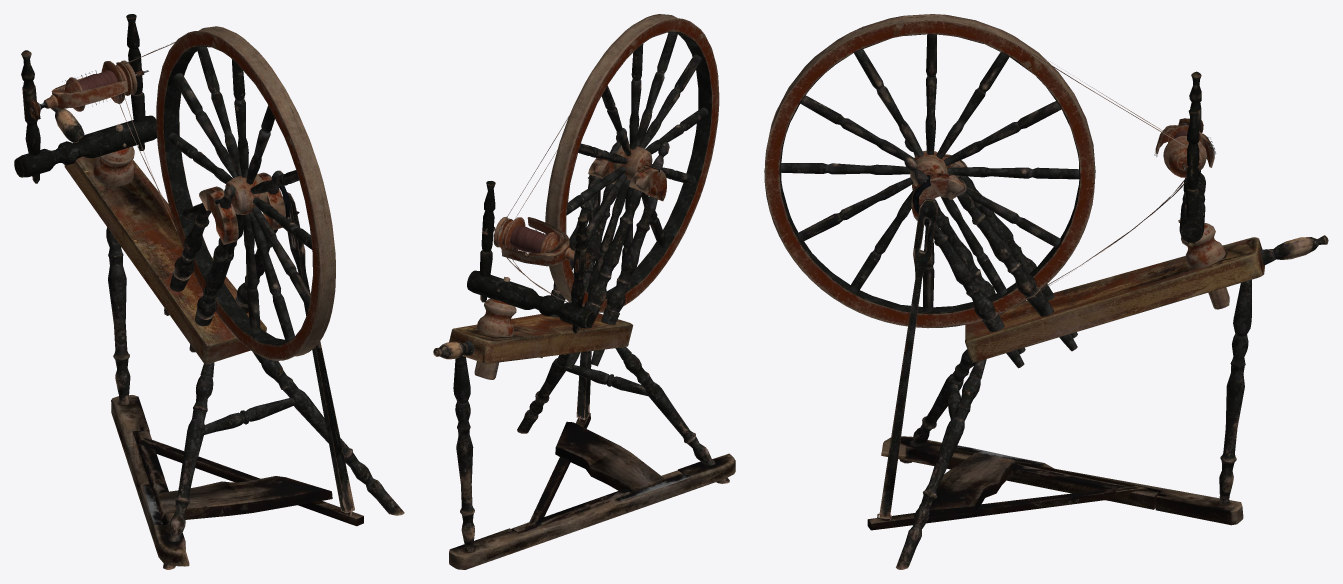
File: spinning_wheel_01.glb
3 renders of one model, left to right at view 1: azimuth 30°, elevation 25°; view 2: azimuth 150°, elevation 25°; view 3: azimuth 270°, elevation 25°, orthographic. The views are drawn at different scales.
Visible parts, largest first — view 1: spinning_wheel_01; view 2: spinning_wheel_01; view 3: spinning_wheel_01.
Boxes of the visible parts, x1,y1,x2,y2 form: spinning_wheel_01: (14, 14, 404, 569); spinning_wheel_01: (433, 14, 735, 569); spinning_wheel_01: (764, 14, 1328, 569).
Bounding box in the file's own units: 0.4893 × 0.9657 × 1.02.
1 material, 1 textured.
